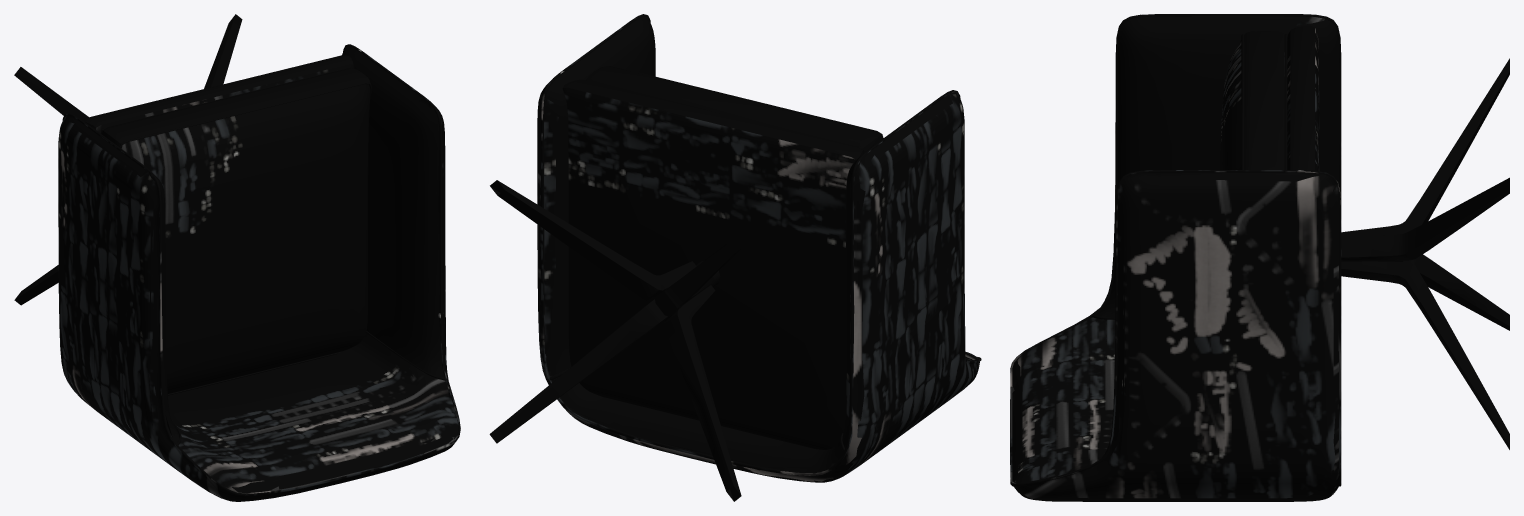
3 renders of one model, left to right at view 1: azimuth 30°, elevation 25°; view 2: azimuth 150°, elevation 25°; view 3: azimuth 270°, elevation 25°, orthographic. The views are drawn at different scales.
Size of the model in its own units: 0.6 by 0.5897 by 0.748.
